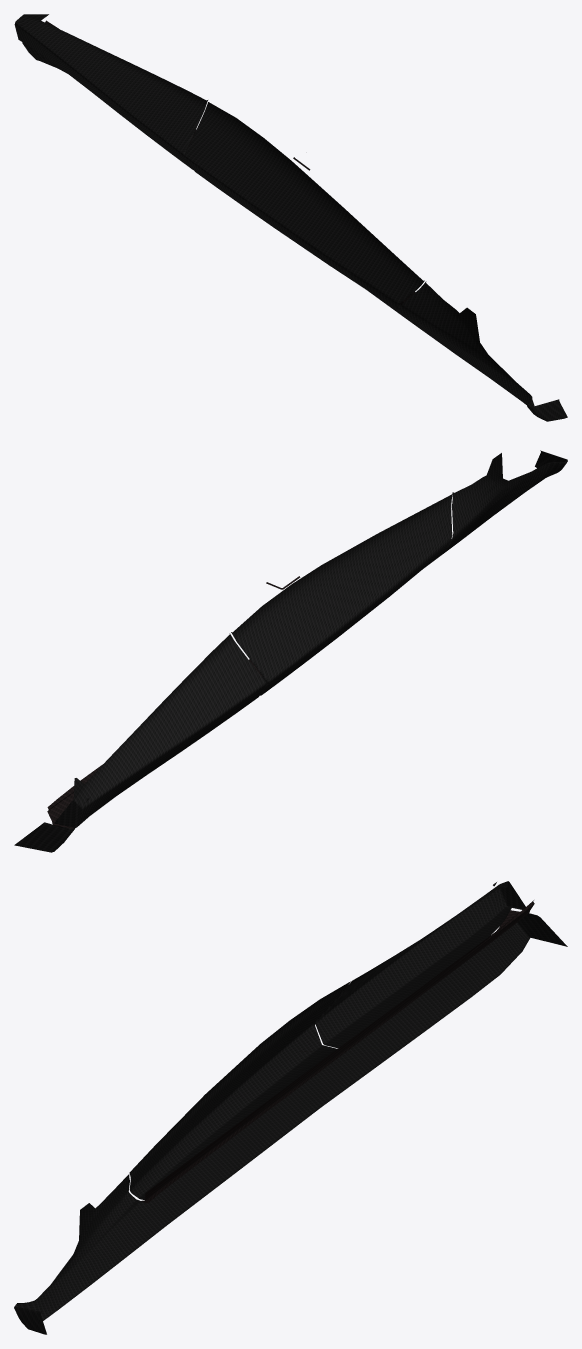
Rendered from sideskirt_r.glb.
3 views of the same model, one above another, from view 1: azimuth 30°, elevation 25°; view 2: azimuth 150°, elevation 25°; view 3: azimuth 330°, elevation 25° (orthographic). The views are drawn at different scales.
Visible parts, largest first — view 1: Carbon2_Geo_lodA_Ferrari_PurosangueRewardRecycled_2023Carbo; view 2: Carbon2_Geo_lodA_Ferrari_PurosangueRewardRecycled_2023Carbo; view 3: Carbon2_Geo_lodA_Ferrari_PurosangueRewardRecycled_2023Carbo.
Part boxes in pixels (x1,y1,x2,y2): Carbon2_Geo_lodA_Ferrari_PurosangueRewardRecycled_2023Carbo: (14,14,567,421); Carbon2_Geo_lodA_Ferrari_PurosangueRewardRecycled_2023Carbo: (14,450,567,852); Carbon2_Geo_lodA_Ferrari_PurosangueRewardRecycled_2023Carbo: (14,881,567,1334).
Size of the model in its own units: 0.0017 by 0.00232 by 0.022.
1 material, 1 textured.
